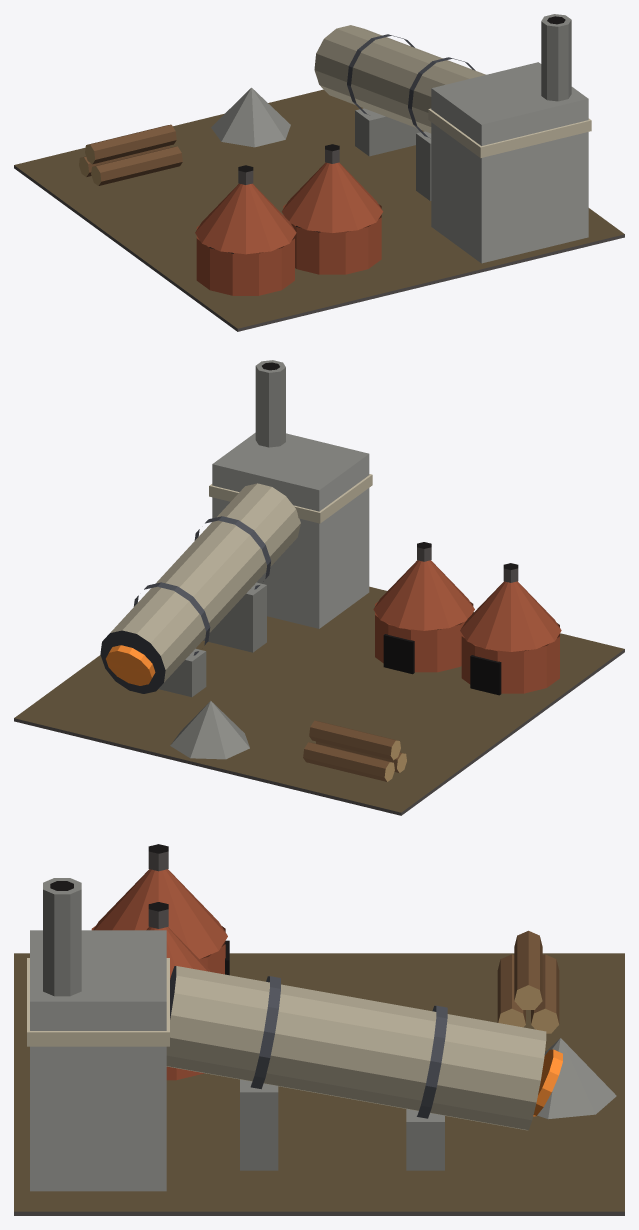
Rendered from kiln_2.obj.
3 renders of one model, top to bottom at view 1: azimuth 30°, elevation 25°; view 2: azimuth 150°, elevation 25°; view 3: azimuth 270°, elevation 25°, orthographic. The views are drawn at different scales.
Bounding box in the file's own units: 3.8 × 2.03 × 3.8.
